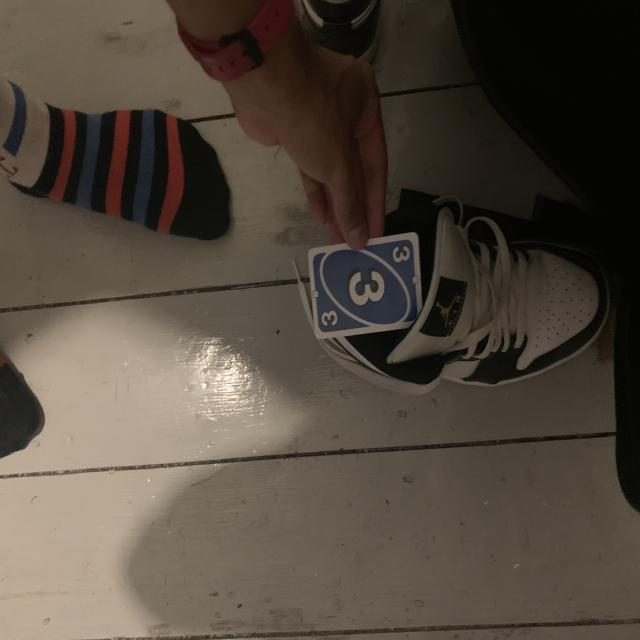lblue-3: (387, 242, 413, 266)
